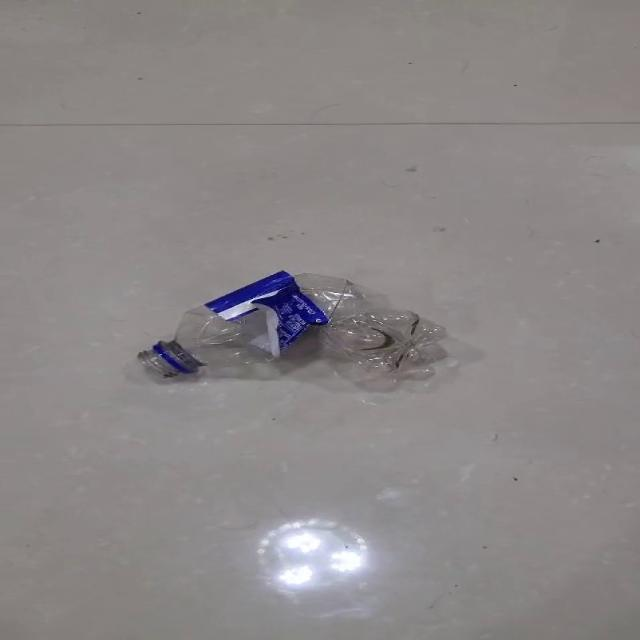plastic: (136, 269, 448, 387)
